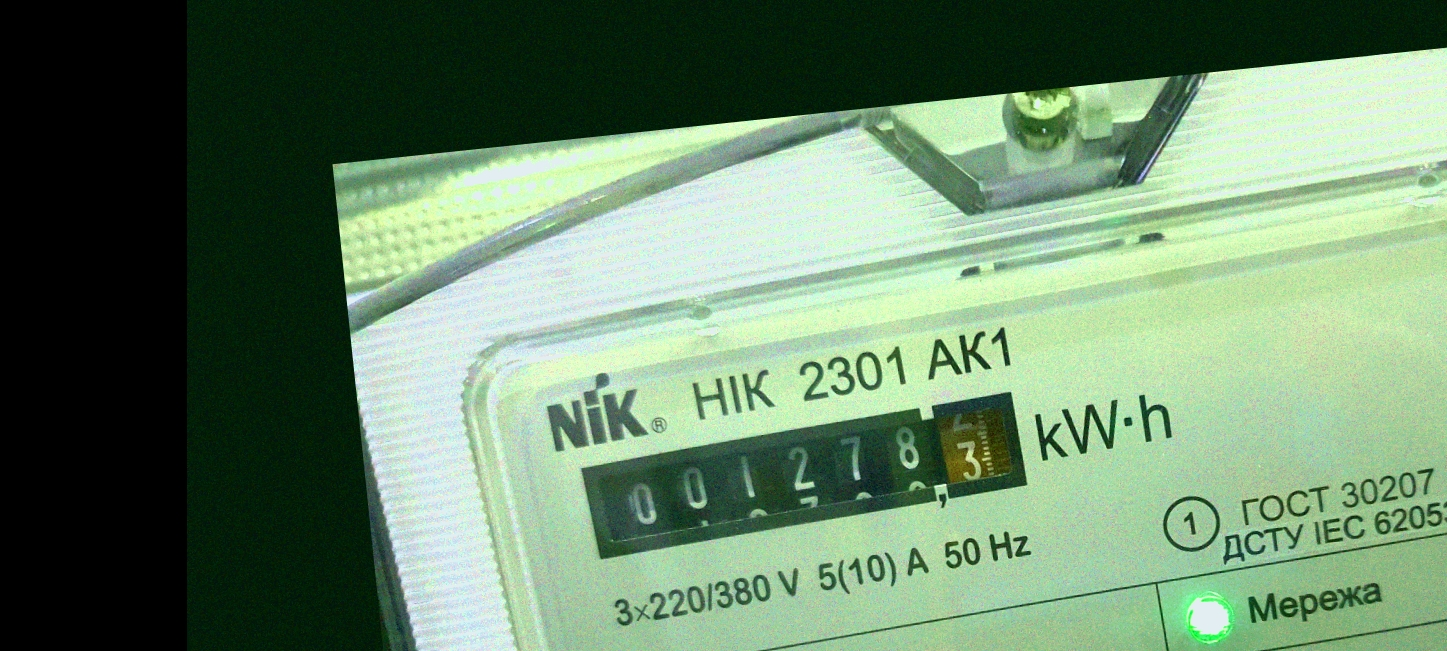0: (629, 478, 662, 528), (680, 463, 710, 512)
1: (738, 452, 760, 501)
2: (785, 443, 817, 492), (948, 411, 976, 434)
3: (954, 435, 985, 481)
7: (839, 433, 866, 483)
8: (893, 423, 923, 472)
screen: (559, 379, 1048, 571)
